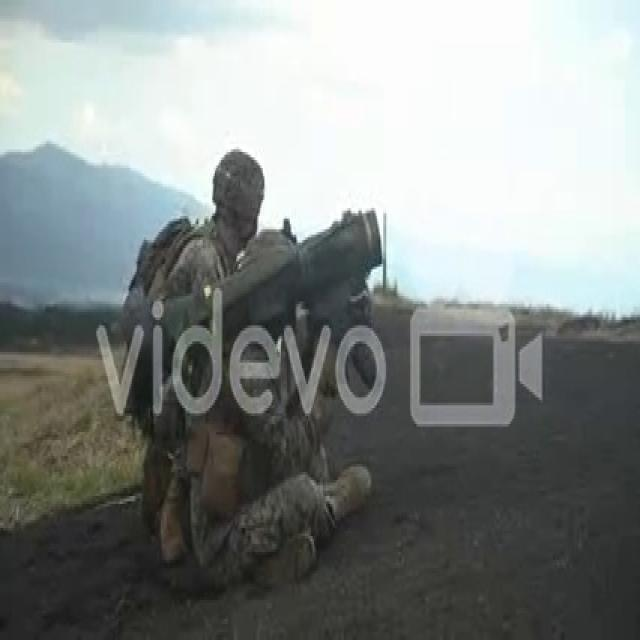bazooka: (119, 196, 390, 424)
